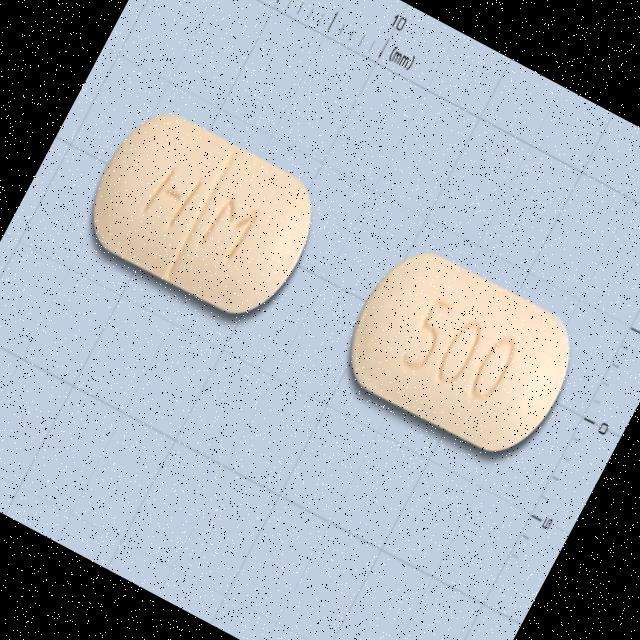Levoxacin: (328, 236, 590, 474), (71, 95, 332, 332)
